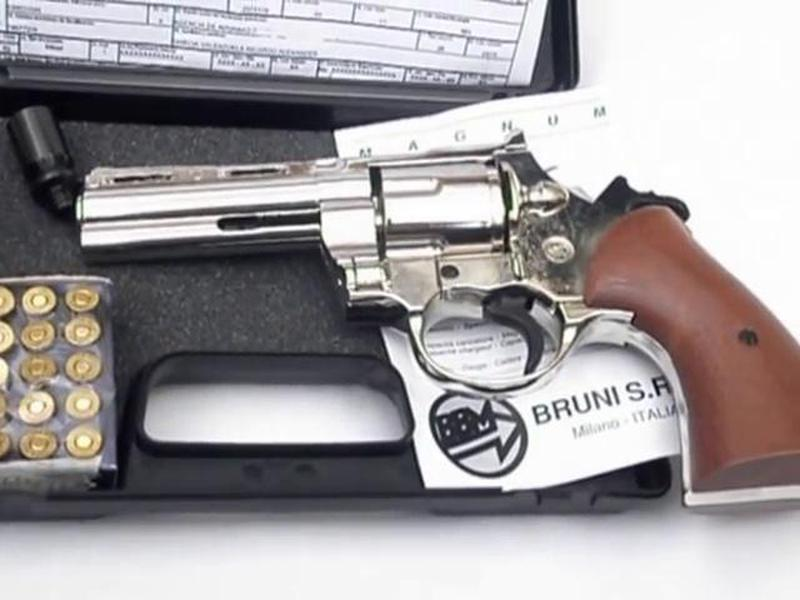Revolver: (77, 157, 800, 413)
